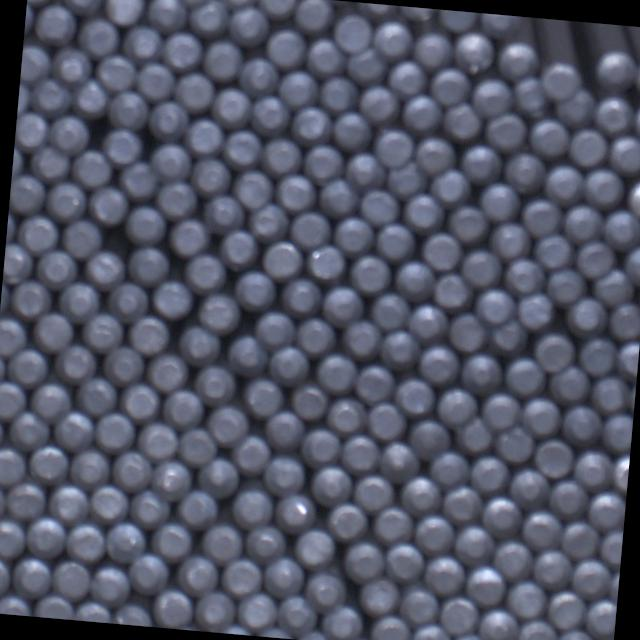tool: (30, 4, 76, 48), (452, 30, 496, 74), (332, 110, 376, 154), (10, 554, 53, 598), (193, 588, 236, 632), (212, 84, 255, 128), (232, 487, 276, 530), (24, 516, 68, 559), (543, 160, 586, 204), (469, 76, 514, 118), (94, 411, 137, 454), (51, 409, 94, 452), (265, 27, 308, 70), (203, 38, 246, 81), (534, 329, 577, 372), (192, 362, 235, 405), (273, 489, 316, 532), (262, 455, 306, 497), (344, 540, 386, 584), (102, 344, 146, 386), (504, 152, 548, 194), (277, 592, 319, 636), (407, 418, 451, 460), (460, 142, 504, 184), (562, 404, 606, 446), (454, 522, 496, 566), (496, 38, 540, 80), (104, 520, 146, 563), (262, 556, 304, 599), (152, 458, 194, 501), (47, 112, 90, 154), (105, 282, 148, 324), (173, 70, 216, 112), (128, 552, 170, 595), (429, 64, 472, 106), (486, 110, 529, 152), (436, 384, 479, 426), (323, 284, 366, 326), (504, 354, 547, 396), (573, 558, 616, 600), (235, 268, 278, 310), (522, 509, 564, 552), (420, 342, 463, 384), (584, 167, 626, 210), (306, 36, 349, 78), (482, 494, 525, 536), (528, 116, 571, 158), (226, 334, 269, 376), (77, 17, 121, 58), (348, 253, 392, 294), (520, 196, 564, 237), (386, 159, 430, 200), (547, 362, 592, 402), (534, 435, 576, 477), (333, 12, 375, 54), (112, 450, 154, 492), (467, 562, 509, 604), (29, 444, 71, 486), (176, 554, 218, 596), (84, 248, 126, 290), (89, 563, 131, 605), (58, 280, 100, 322), (80, 311, 122, 353), (164, 388, 206, 430), (35, 248, 77, 290), (47, 179, 89, 221), (318, 352, 360, 394), (64, 520, 106, 562), (532, 549, 574, 591), (196, 454, 238, 496), (374, 126, 416, 168), (153, 586, 195, 628), (229, 5, 271, 47), (312, 464, 354, 506), (179, 324, 221, 366), (46, 482, 88, 524), (400, 474, 442, 516), (306, 570, 348, 612), (198, 290, 240, 332), (240, 57, 282, 99), (548, 477, 590, 519), (425, 553, 467, 595), (304, 144, 346, 186), (508, 466, 550, 508), (380, 438, 422, 480), (185, 252, 227, 294), (394, 260, 436, 302), (494, 538, 536, 580), (402, 92, 444, 134), (126, 204, 168, 246), (462, 350, 504, 392), (152, 278, 195, 319), (162, 31, 205, 72), (151, 522, 194, 563), (53, 341, 96, 382), (205, 404, 248, 445), (404, 192, 447, 233), (202, 192, 245, 233), (26, 78, 70, 118), (414, 134, 458, 174), (106, 90, 150, 130), (358, 82, 402, 122), (489, 219, 533, 259), (50, 558, 91, 600), (127, 315, 169, 356), (62, 219, 104, 260), (294, 527, 336, 568), (19, 213, 61, 254), (236, 590, 278, 631), (148, 351, 190, 392), (138, 421, 180, 462), (358, 574, 399, 616), (356, 362, 397, 404), (136, 61, 178, 102), (203, 523, 244, 565), (415, 513, 457, 554), (29, 382, 71, 423), (130, 488, 172, 529), (68, 447, 110, 488), (222, 128, 263, 170), (573, 448, 614, 490), (478, 180, 520, 221), (562, 203, 604, 244), (520, 394, 562, 435), (269, 343, 310, 385), (412, 28, 454, 69), (591, 372, 633, 413), (264, 408, 306, 449), (251, 92, 292, 134), (598, 50, 640, 91), (70, 148, 113, 188), (278, 69, 321, 109), (126, 246, 169, 286), (459, 248, 502, 288), (593, 268, 636, 308), (53, 45, 96, 85), (318, 178, 361, 218), (428, 448, 471, 488), (190, 155, 233, 195), (245, 524, 288, 564), (150, 142, 193, 182), (346, 149, 390, 188), (33, 311, 74, 352), (568, 127, 609, 168), (342, 317, 383, 358), (149, 98, 190, 139), (380, 327, 421, 368), (546, 588, 588, 628), (494, 422, 536, 462), (90, 482, 132, 522), (256, 308, 298, 348), (395, 375, 437, 415), (384, 542, 426, 582), (372, 18, 414, 58), (221, 556, 263, 596), (7, 410, 49, 450), (354, 474, 396, 514), (372, 504, 414, 544), (482, 389, 524, 429), (158, 178, 200, 218), (280, 276, 322, 316), (348, 46, 390, 86), (567, 296, 609, 336), (375, 222, 417, 262), (431, 272, 473, 312), (601, 207, 640, 250), (408, 300, 451, 339), (263, 239, 304, 279), (244, 378, 285, 418), (578, 336, 618, 377), (448, 312, 489, 352), (235, 168, 276, 208), (90, 183, 130, 224), (184, 115, 225, 155), (178, 489, 218, 530), (296, 317, 337, 357), (340, 434, 381, 474), (249, 200, 290, 240), (388, 58, 429, 98), (540, 59, 580, 100), (276, 173, 318, 212), (446, 204, 488, 243), (122, 24, 164, 63), (8, 172, 46, 215), (289, 210, 332, 248), (504, 258, 547, 296), (440, 594, 480, 634), (562, 520, 602, 560), (178, 426, 218, 466), (230, 432, 270, 472), (470, 454, 510, 494), (422, 232, 462, 272), (76, 376, 116, 416), (118, 158, 158, 198), (594, 94, 634, 134), (371, 291, 411, 331), (170, 216, 210, 256), (4, 482, 45, 521), (12, 279, 53, 318), (327, 500, 368, 539), (301, 425, 342, 464), (506, 580, 547, 619), (574, 238, 615, 277), (262, 135, 303, 174), (319, 75, 360, 114), (588, 489, 626, 531), (474, 284, 516, 322), (28, 144, 70, 182), (429, 167, 471, 205), (321, 603, 364, 640), (8, 347, 48, 386), (367, 399, 407, 438), (336, 214, 376, 253), (442, 483, 482, 522), (399, 584, 439, 623), (328, 395, 369, 433), (444, 102, 485, 140), (556, 88, 597, 126), (517, 290, 556, 329), (122, 382, 160, 422), (98, 54, 138, 92), (307, 243, 347, 281), (292, 104, 332, 142), (534, 230, 574, 268), (546, 266, 586, 304), (222, 228, 260, 268), (361, 187, 402, 224), (189, 0, 231, 36), (104, 126, 144, 163), (489, 317, 529, 354), (290, 384, 328, 422), (73, 80, 111, 118), (456, 416, 494, 454), (147, 0, 190, 33), (478, 608, 521, 640), (14, 110, 48, 150), (607, 132, 640, 173), (2, 242, 34, 283), (586, 598, 616, 640), (20, 43, 52, 82), (478, 12, 526, 38), (602, 411, 633, 451), (294, 0, 334, 31), (609, 301, 640, 339), (0, 315, 27, 355), (371, 614, 412, 640), (110, 601, 152, 626), (34, 594, 74, 620), (0, 378, 25, 419), (0, 446, 25, 487), (105, 0, 146, 25), (0, 518, 24, 559), (616, 339, 640, 379), (435, 8, 477, 30), (72, 600, 111, 623), (600, 528, 623, 566), (518, 620, 560, 640), (413, 622, 455, 640), (612, 451, 630, 492), (356, 2, 399, 18), (0, 593, 31, 615), (624, 242, 640, 283), (258, 0, 299, 16), (398, 6, 438, 22), (63, 0, 105, 13), (627, 175, 640, 216), (17, 78, 31, 116), (5, 208, 18, 248), (256, 626, 294, 639), (11, 142, 24, 180), (557, 628, 597, 640), (296, 628, 334, 640), (215, 623, 253, 635), (23, 0, 34, 39), (0, 554, 9, 595), (0, 277, 9, 317), (215, 0, 258, 8), (453, 633, 490, 640), (634, 101, 640, 140), (0, 349, 5, 386), (171, 0, 213, 4), (344, 637, 379, 640)
